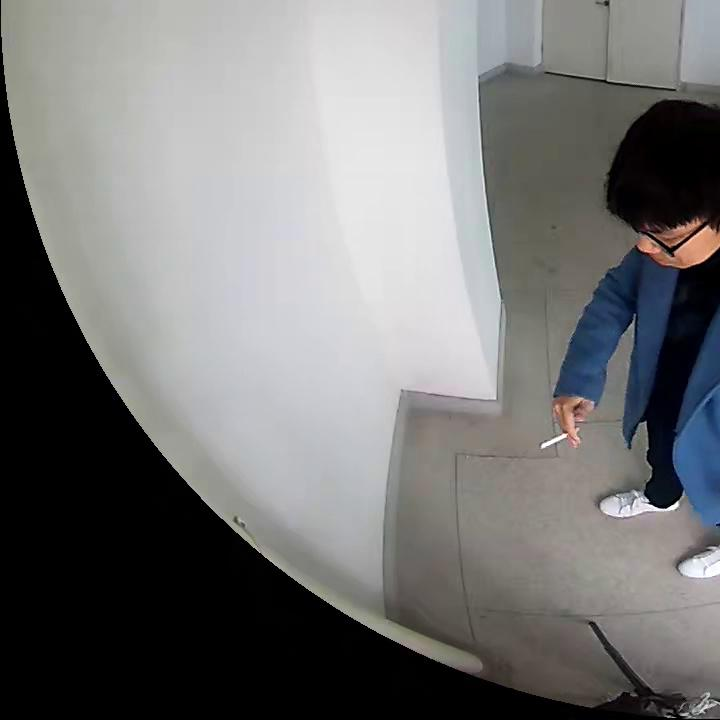handsmoke: (542, 403, 592, 450)
mouthwithoutsmoke: (603, 100, 720, 271)
